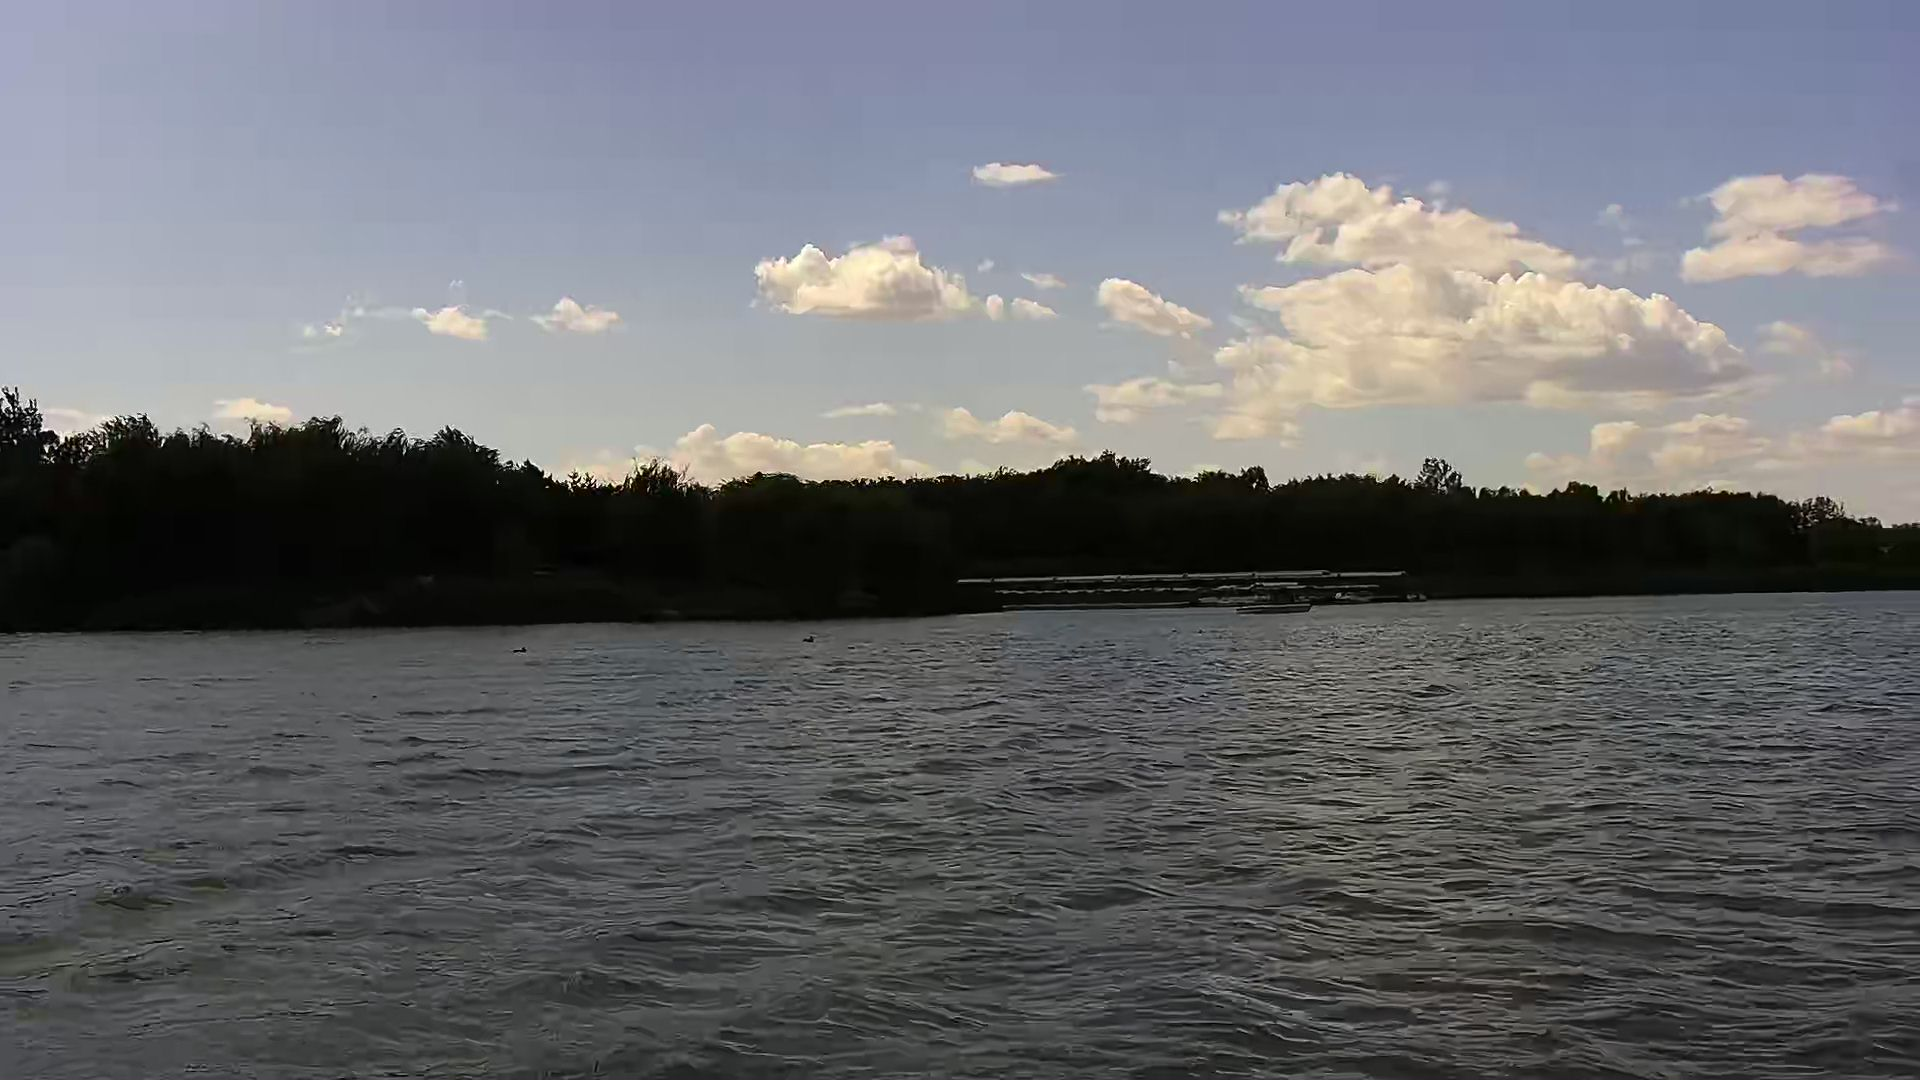boat: (1228, 580, 1315, 622)
harbor: (949, 568, 1424, 611)
